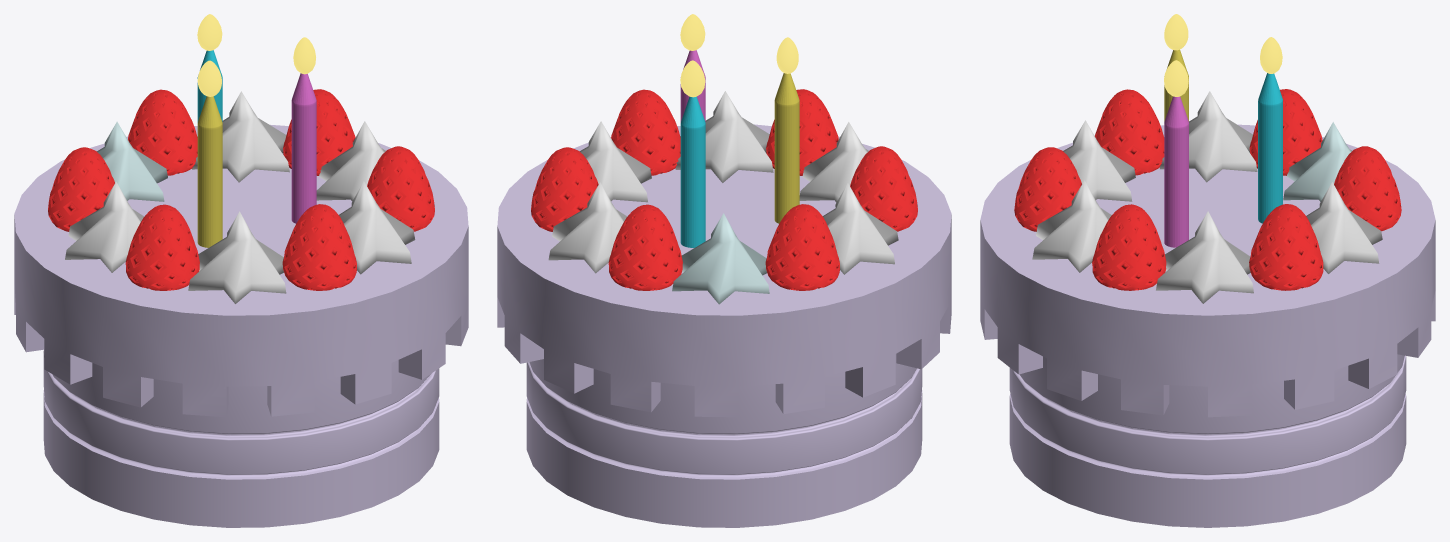
Rendered from cake.glb.
3 views of the same model, side by side, from view 1: azimuth 30°, elevation 25°; view 2: azimuth 150°, elevation 25°; view 3: azimuth 270°, elevation 25° (orthographic).
Parts seen in each view (by area): view 1: cake, 立方体.003, 立方体.004, 柱体.005, 立方体, 立方体.002, 柱体.002, 立方体.005, 柱体.006, 柱体.004, 柱体.008, 柱体.007 (+7 smaller); view 2: cake, 立方体.005, 立方体, 柱体, 立方体.002, 立方体.004, 柱体.004, 立方体.001, 柱体.002, 柱体.001, 柱体.006, 柱体.008 (+7 smaller); view 3: cake, 立方体.001, 立方体.002, 柱体.003, 立方体.004, 立方体, 柱体.006, 柱体.004, 立方体.003, 柱体.002, 柱体.007, 柱体.001 (+7 smaller).
Part boxes in pixels (x1=…): cake: x1=14, y1=124, x2=468, y2=527; 立方体.003: x1=282, y1=204, x2=356, y2=290; 立方体.004: x1=125, y1=204, x2=199, y2=290; 柱体.005: x1=188, y1=211, x2=286, y2=303; 立方体: x1=128, y1=89, x2=197, y2=175; 立方体.002: x1=367, y1=146, x2=434, y2=231; 柱体.002: x1=192, y1=91, x2=289, y2=182; 立方体.005: x1=48, y1=147, x2=114, y2=231; 柱体.006: x1=65, y1=181, x2=144, y2=272; 柱体.004: x1=339, y1=181, x2=415, y2=274; 柱体.008: x1=197, y1=96, x2=222, y2=247; 柱体.007: x1=291, y1=73, x2=316, y2=223; cake: x1=497, y1=124, x2=951, y2=527; 立方体.005: x1=765, y1=204, x2=839, y2=290; 立方体: x1=608, y1=204, x2=682, y2=290; 柱体: x1=672, y1=213, x2=769, y2=304; 立方体.002: x1=611, y1=89, x2=680, y2=175; 立方体.004: x1=850, y1=146, x2=917, y2=231; 柱体.004: x1=675, y1=91, x2=773, y2=182; 立方体.001: x1=531, y1=147, x2=598, y2=231; 柱体.002: x1=548, y1=182, x2=627, y2=273; 柱体.001: x1=680, y1=96, x2=705, y2=247; 柱体.006: x1=823, y1=183, x2=898, y2=274; 柱体.008: x1=774, y1=73, x2=799, y2=223; cake: x1=980, y1=124, x2=1435, y2=527; 立方体.001: x1=1249, y1=204, x2=1323, y2=290; 立方体.002: x1=1092, y1=204, x2=1166, y2=290; 柱体.003: x1=1156, y1=211, x2=1253, y2=303; 立方体.004: x1=1095, y1=89, x2=1164, y2=175; 立方体: x1=1334, y1=146, x2=1401, y2=231; 柱体.006: x1=1159, y1=91, x2=1257, y2=182; 柱体.004: x1=1032, y1=180, x2=1111, y2=272; 立方体.003: x1=1014, y1=147, x2=1081, y2=231; 柱体.002: x1=1306, y1=182, x2=1382, y2=273; 柱体.007: x1=1164, y1=96, x2=1188, y2=247; 柱体.001: x1=1258, y1=73, x2=1282, y2=223.
Bounding box in the file's own units: 2.3 × 2.27 × 2.3.
